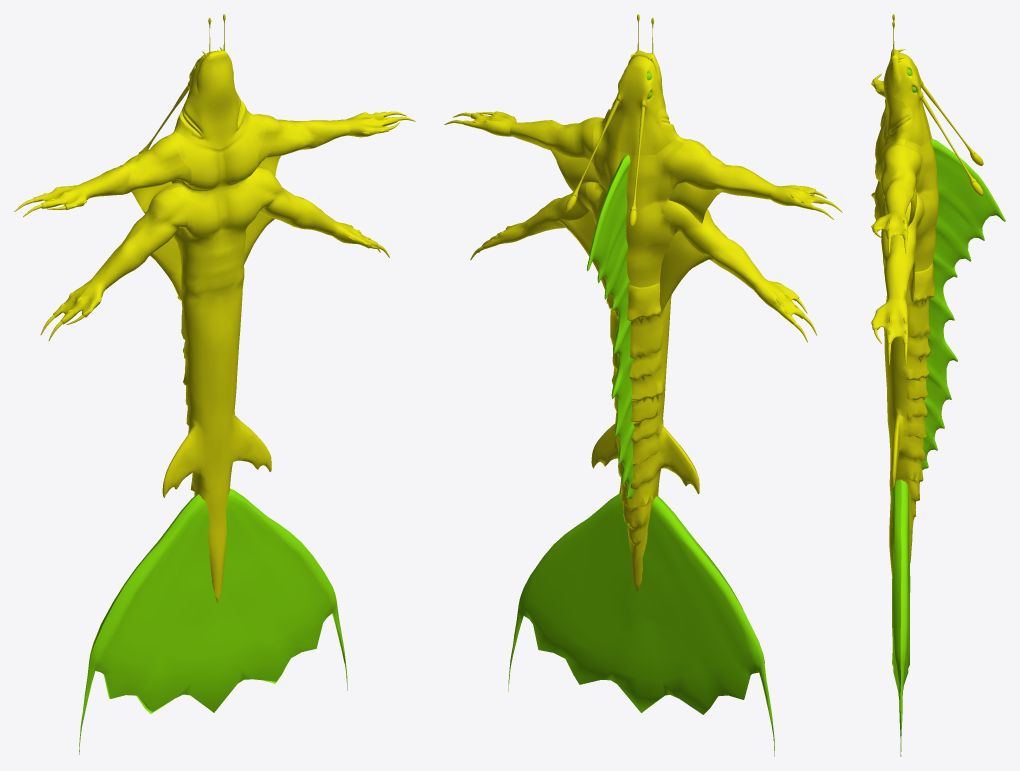
The picture shows the model from 3 angles, left to right: view 1: azimuth 30°, elevation 25°; view 2: azimuth 150°, elevation 25°; view 3: azimuth 270°, elevation 25°; orthographic projection. The views are drawn at different scales.
Visible parts, largest first — view 1: Body_low, Tail_low, LowerWeb_low, UpperWeb_low; view 2: Body_low, Tail_low, Fin_low, LowerWeb_low, UpperWeb_low, BigTendrils_low; view 3: Body_low, Fin_low, Tail_low, BigTendrils_low, LowerNails_low.
Part boxes in pixels (x1=…): Body_low: x1=33, y1=50, x2=397, y2=603; Tail_low: x1=79, y1=488, x2=347, y2=754; LowerWeb_low: x1=150, y1=211, x2=274, y2=301; UpperWeb_low: x1=132, y1=156, x2=280, y2=213; Body_low: x1=463, y1=50, x2=824, y2=591; Tail_low: x1=508, y1=493, x2=774, y2=756; Fin_low: x1=586, y1=155, x2=634, y2=498; LowerWeb_low: x1=557, y1=210, x2=714, y2=313; UpperWeb_low: x1=550, y1=148, x2=723, y2=223; BigTendrils_low: x1=571, y1=100, x2=645, y2=211; Body_low: x1=872, y1=49, x2=938, y2=576; Fin_low: x1=921, y1=139, x2=1005, y2=470; Tail_low: x1=892, y1=479, x2=910, y2=756; BigTendrils_low: x1=921, y1=85, x2=976, y2=182; LowerNails_low: x1=871, y1=194, x2=907, y2=365.
Bounding box in the file's own units: 1.02 × 1.77 × 0.3189.
